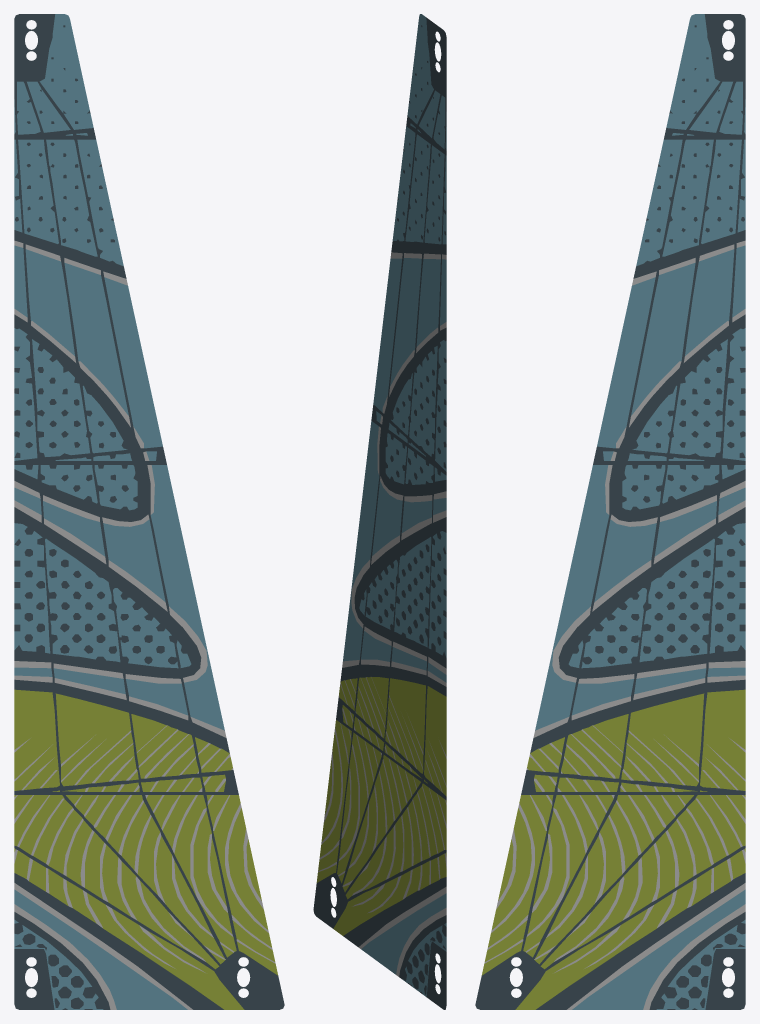
3 views of the same model, side by side, from view 1: azimuth 90°, elevation 25°; view 2: azimuth 210°, elevation 25°; view 3: azimuth 270°, elevation 25° (orthographic).
Parts seen in each view (by area): view 1: world; view 2: world; view 3: world.
Boxes of the visible parts, x1,y1,x2,y2 form: world: (14, 14, 284, 1009); world: (313, 14, 446, 1009); world: (475, 14, 745, 1009).
Size of the model in its own units: 0 by 0.3316 by 0.0816.
